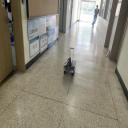cart: (63, 59, 77, 76)
